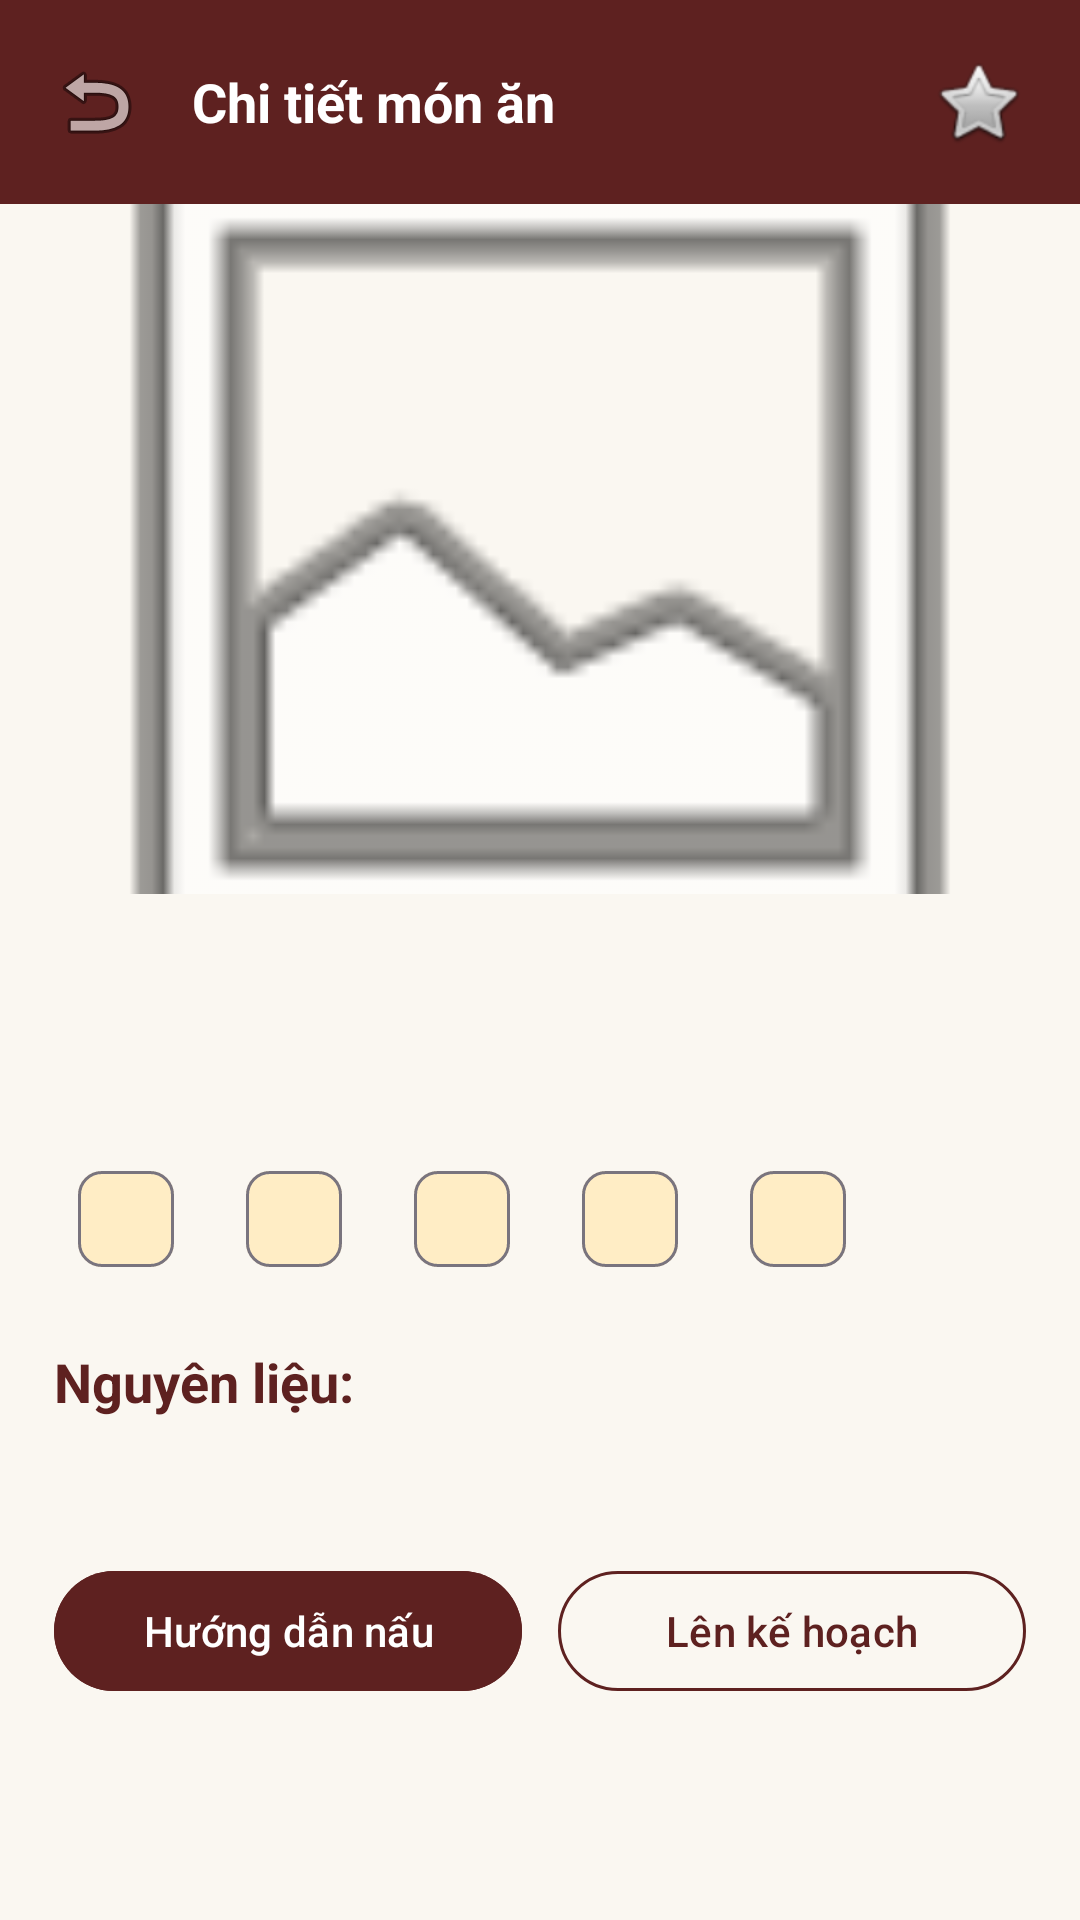

Icons on this 1080 × 1920 Android screen, each with the point to tap as (x=x, y=y):
Quay lại: (x=97, y=103)
Yêu thích: (x=979, y=102)
